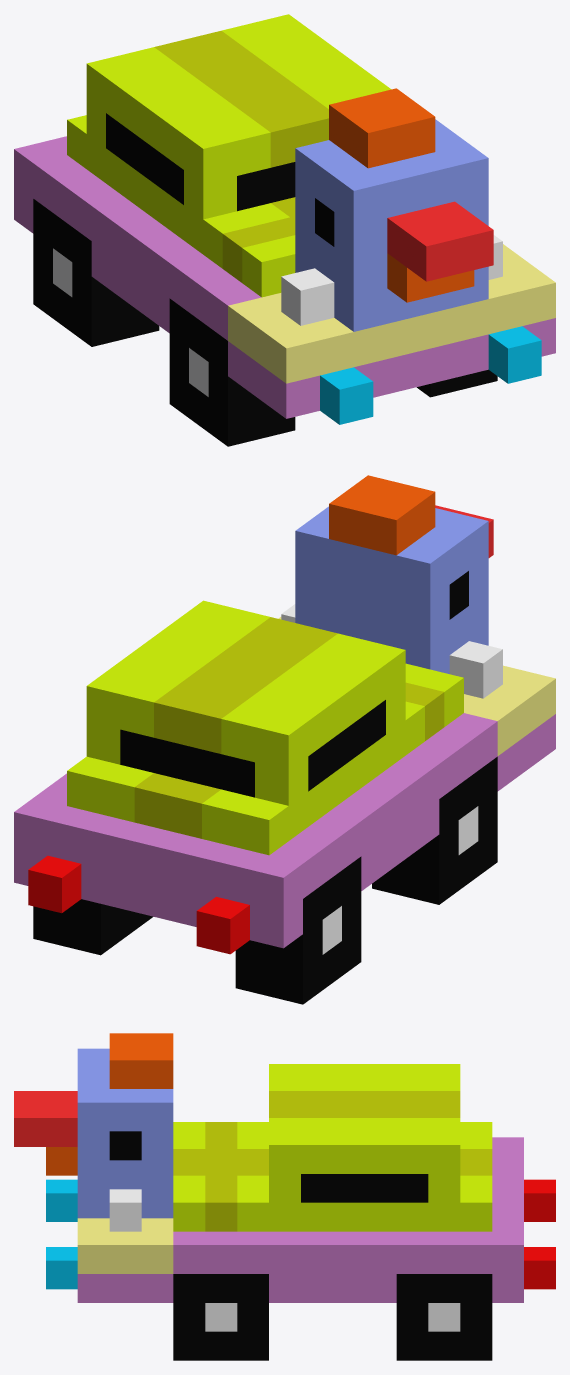
Rendered from Chicken Car.fbx.
The picture shows the model from 3 angles, top to bottom: view 1: azimuth 30°, elevation 25°; view 2: azimuth 150°, elevation 25°; view 3: azimuth 270°, elevation 25°; orthographic projection. The views are drawn at different scales.
Parts seen in each view (by area): view 1: Chicken Car; view 2: Chicken Car; view 3: Chicken Car.
Part boxes in pixels (bbox=[...]): Chicken Car: bbox=[14, 14, 555, 446]; Chicken Car: bbox=[14, 475, 555, 1004]; Chicken Car: bbox=[14, 1033, 555, 1360].
Size of the model in its own units: 800 by 900 by 1700.
